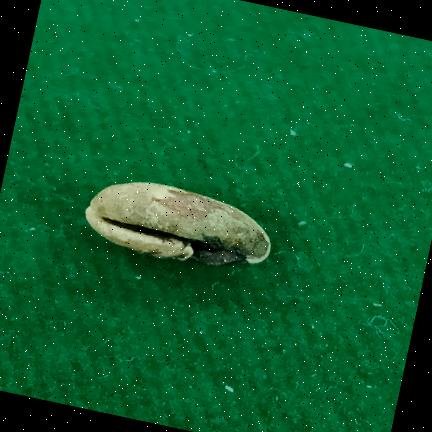partial-black: (85, 182, 271, 266)
